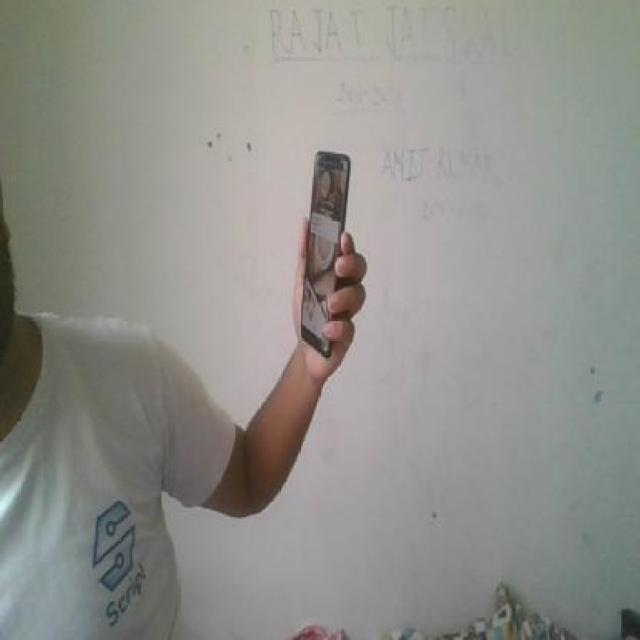Phone: (297, 148, 355, 361)
